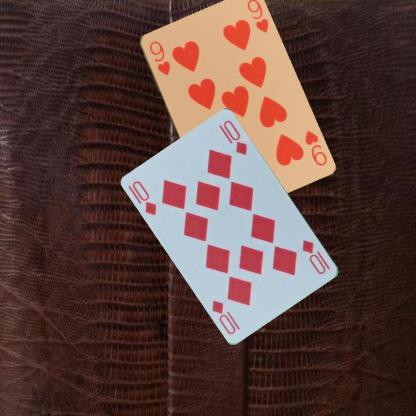10d: (299, 237, 328, 275), (130, 178, 158, 217)
9h: (302, 127, 328, 168), (146, 38, 171, 77)
